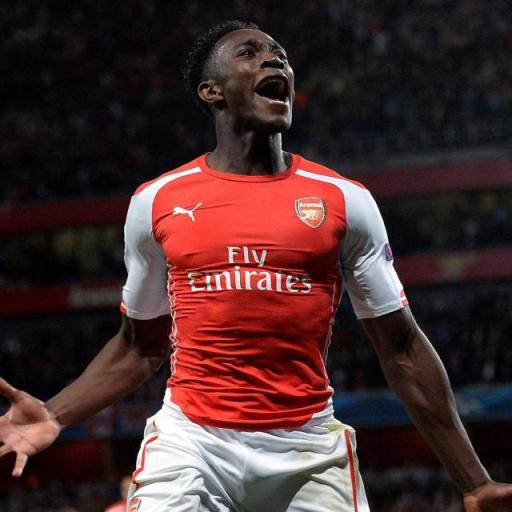Emirates: (182, 244, 316, 292)
